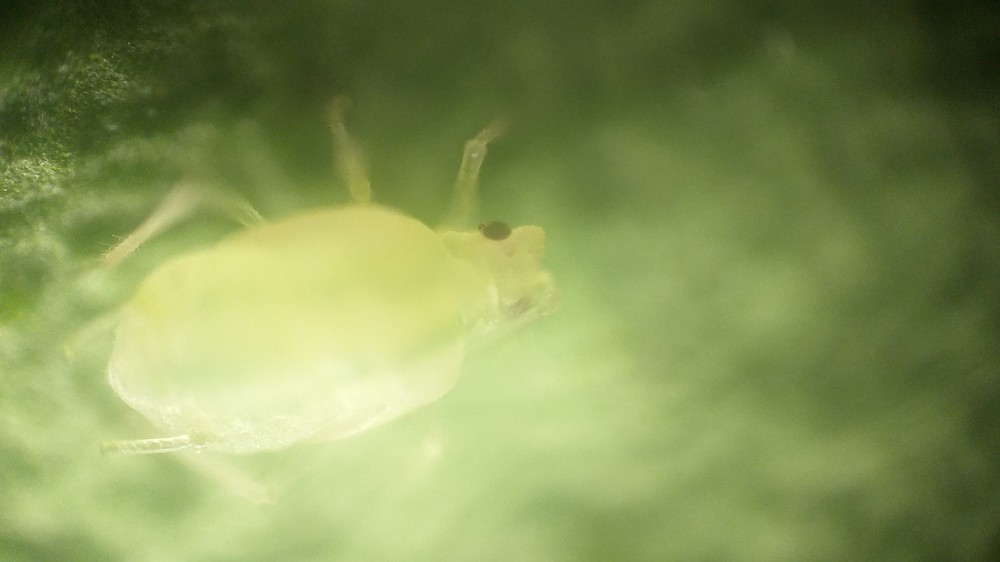Pulgon: (75, 95, 586, 529)
